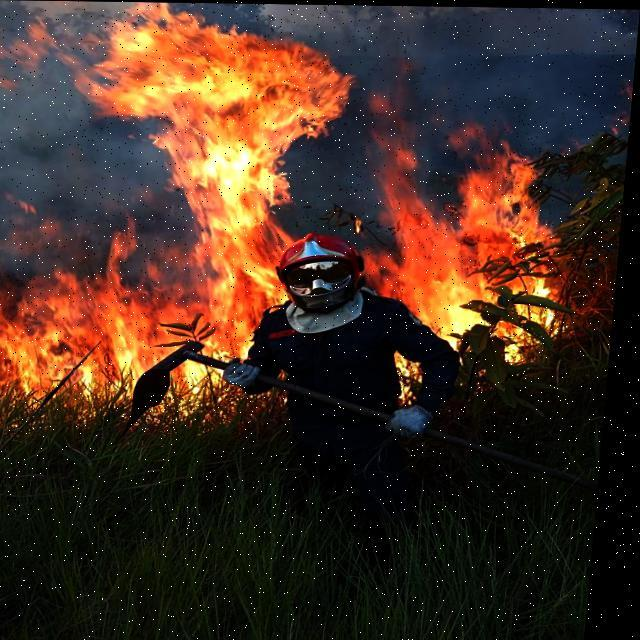Fire: (0, 3, 603, 424)
